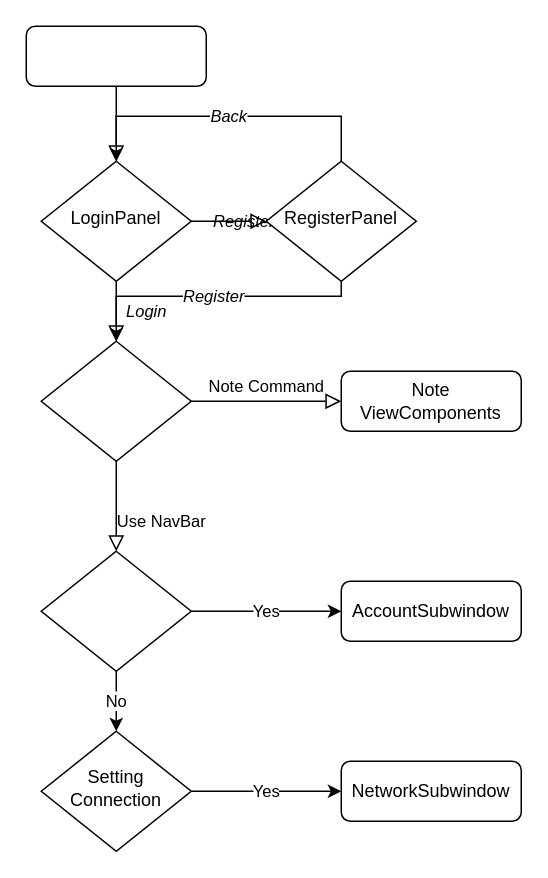
Image size: 548x878. Some labels were removed from this diagram. The shapes that lost their labels are listed below. From the top down, each one's centre as x and y in pixels, then its label:
At (115,55): "RunApp".
At (115,400): "Home".
At (115,610): "Account".
